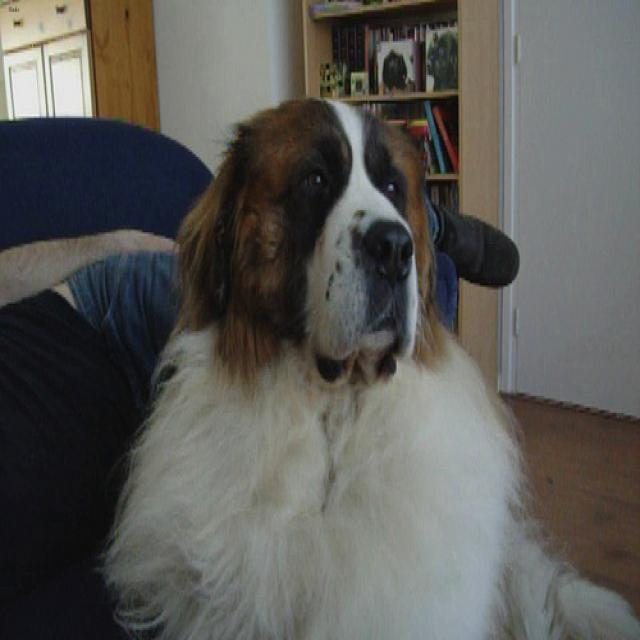dog-saint_bernard: (88, 92, 637, 637)
